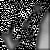node: (1, 32, 17, 50)
